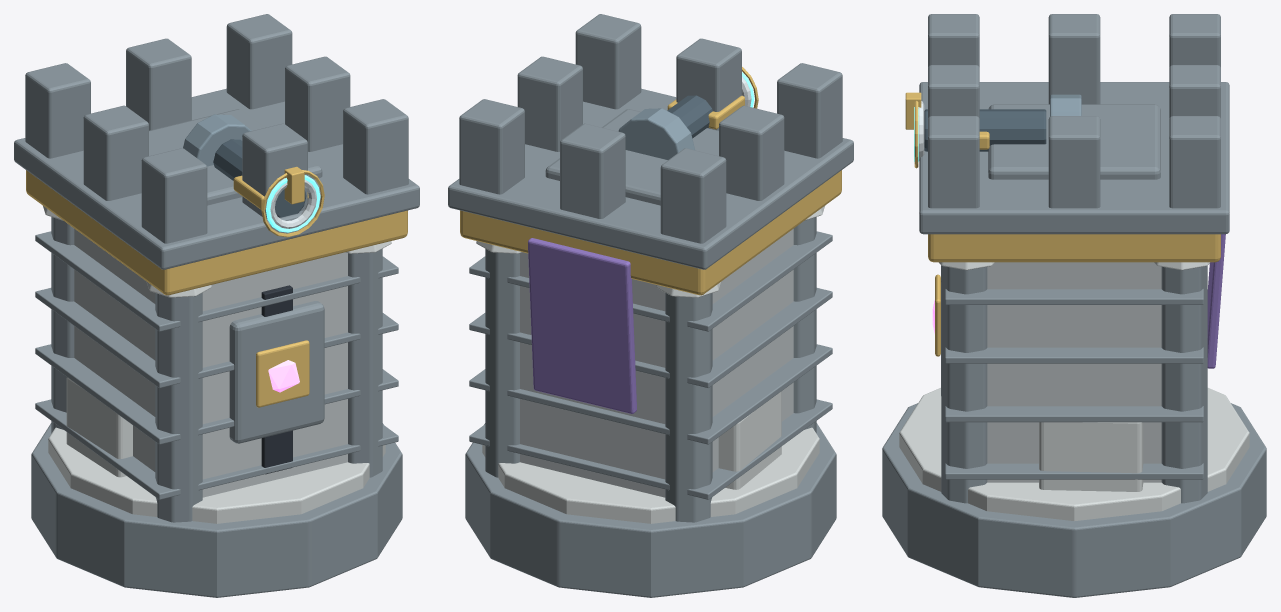
The model's file is tower_guard.glb.
3 renders of one model, left to right at view 1: azimuth 30°, elevation 25°; view 2: azimuth 150°, elevation 25°; view 3: azimuth 270°, elevation 25°, orthographic. The views are drawn at different scales.
Visible parts, largest first — view 1: Foundation.001, TowerBody, CrownStone, CrownBand, FoundationTrim, Corner_-0.75_-0.75, CrestPlate, Corner_0.75_-0.75, MerlonA_-0.84_-0.84, MerlonA_0.84_-0.84, MerlonA_0.84_0.84, MerlonB_-0.84 (+21 smaller); view 2: Foundation.001, TowerBody, CrownStone, RearBanner, FoundationTrim, Corner_-0.75_0.75, CrownBand, Corner_0.75_0.75, MerlonA_-0.84_0.84, MerlonA_0_0.84, MerlonA_0.84_0.84, MerlonA_0.84_-0.84 (+14 smaller); view 3: Foundation.001, TowerBody, CrownStone, FoundationTrim, Corner_0.75_0.75, Corner_0.75_-0.75, CrownBand, CannonDeck, Buttress0.82, MerlonB_0.84, MerlonA_0.84_0.84, MerlonA_0.84_-0.84 (+12 smaller).
Part boxes in pixels (x1,y1,x2,y2): Foundation.001: (31, 423, 402, 597); TowerBody: (74, 229, 347, 497); CrownStone: (14, 88, 419, 269); CrownBand: (26, 170, 407, 295); FoundationTrim: (48, 427, 385, 523); Corner_-0.75_-0.75: (155, 293, 202, 522); CrestPlate: (229, 301, 324, 443); Corner_0.75_-0.75: (348, 249, 382, 477); MerlonA_-0.84_-0.84: (141, 148, 207, 243); MerlonA_0.84_-0.84: (343, 99, 408, 194); MerlonA_0.84_0.84: (226, 14, 292, 109); MerlonB_-0.84: (83, 105, 148, 200); Foundation.001: (465, 423, 836, 597); TowerBody: (520, 229, 793, 497); CrownStone: (448, 88, 853, 269); RearBanner: (528, 238, 636, 413); FoundationTrim: (482, 427, 819, 523); Corner_-0.75_0.75: (665, 293, 712, 522); CrownBand: (460, 170, 841, 295); Corner_0.75_0.75: (485, 249, 519, 477); MerlonA_-0.84_0.84: (660, 148, 726, 243); MerlonA_0_0.84: (560, 123, 625, 218); MerlonA_0.84_0.84: (459, 99, 524, 194); MerlonA_0.84_-0.84: (575, 14, 641, 109); Foundation.001: (882, 403, 1266, 597); TowerBody: (987, 262, 1161, 482); CrownStone: (919, 82, 1229, 234); FoundationTrim: (899, 388, 1249, 521); Corner_0.75_0.75: (1161, 266, 1207, 503); Corner_0.75_-0.75: (941, 266, 987, 503); CrownBand: (928, 234, 1220, 262); CannonDeck: (988, 104, 1160, 179); Buttress0.82: (1039, 422, 1143, 491); MerlonB_0.84: (1048, 116, 1100, 208); MerlonA_0.84_0.84: (1169, 116, 1220, 208); MerlonA_0.84_-0.84: (928, 116, 979, 208).
Size of the model in its own units: 2.67 by 3.4 by 2.67.
